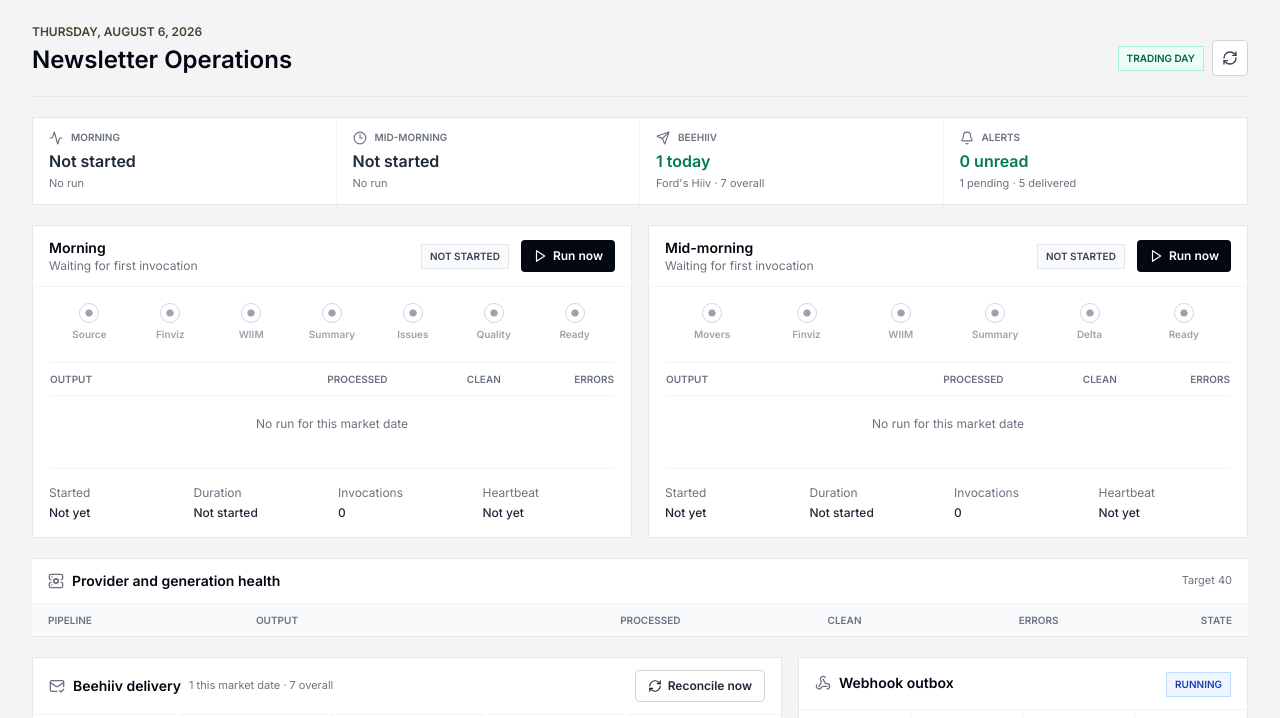
Test: NewsletterOperations › shows scoped delivery/outbox health and reports manual reconciliation
Expected: the heading "Beehiiv delivery" is shown, [73,676,181,696]
Expected: the text "1 this market date · 7 overall" is shown, [189,677,333,694]
What coordinates should you click on to do the following:
click the button "Reconcile now"
I would click on:
 (700, 686)
Its box is [635,670,765,702].
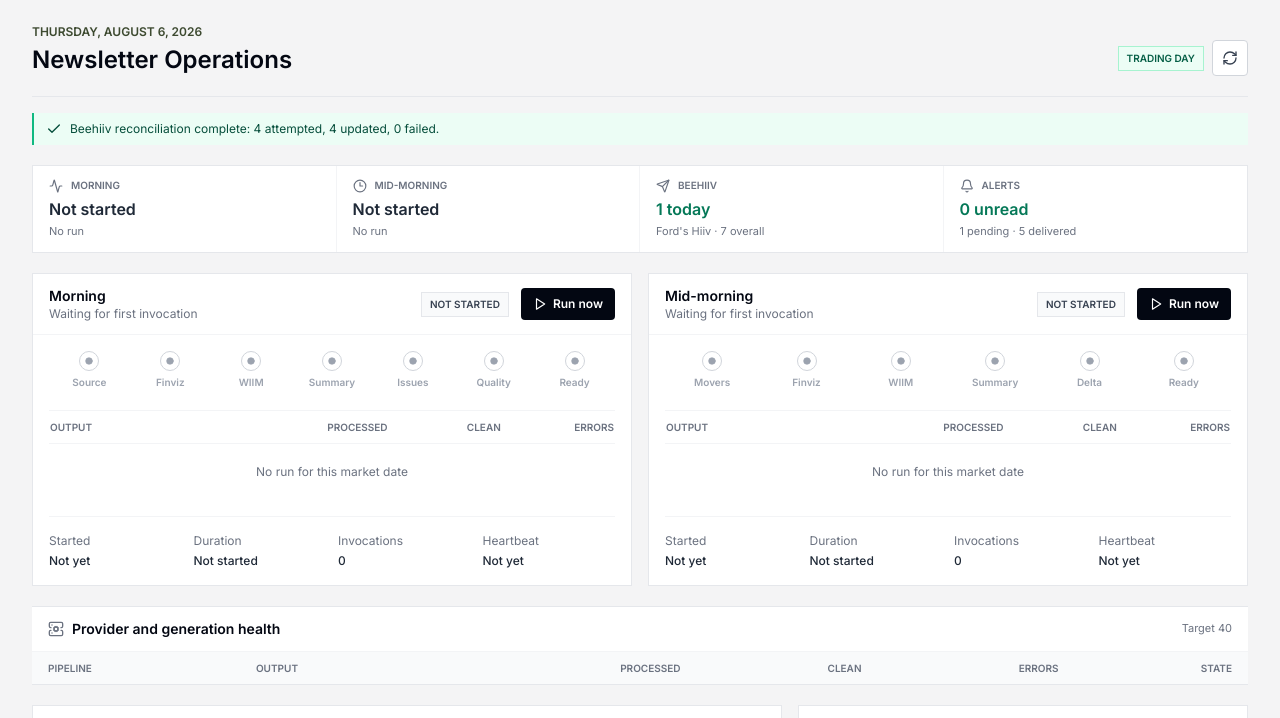
Expected: the text "Beehiiv reconciliation complete: 4 attempted, 4 updated, 0 failed." is shown, [32,113,1248,145]
